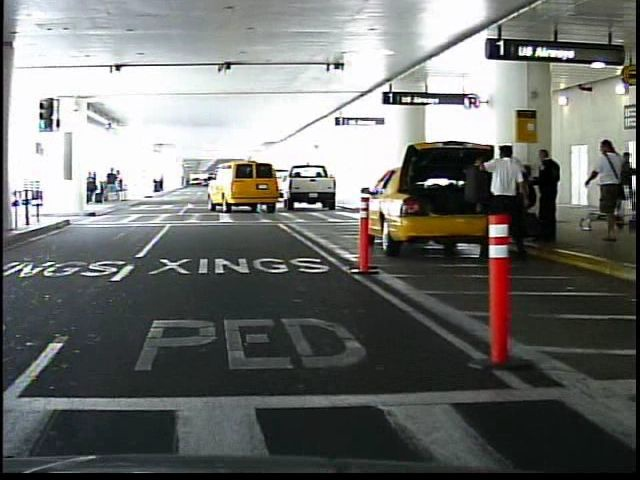person: (584, 138, 629, 240)
